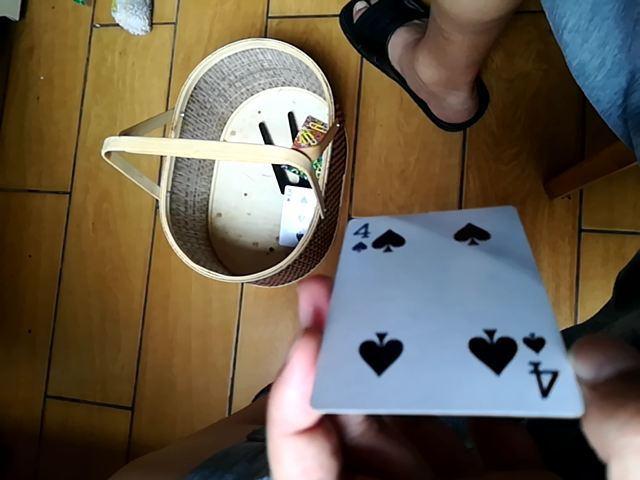ht 4: (314, 207, 578, 421)
